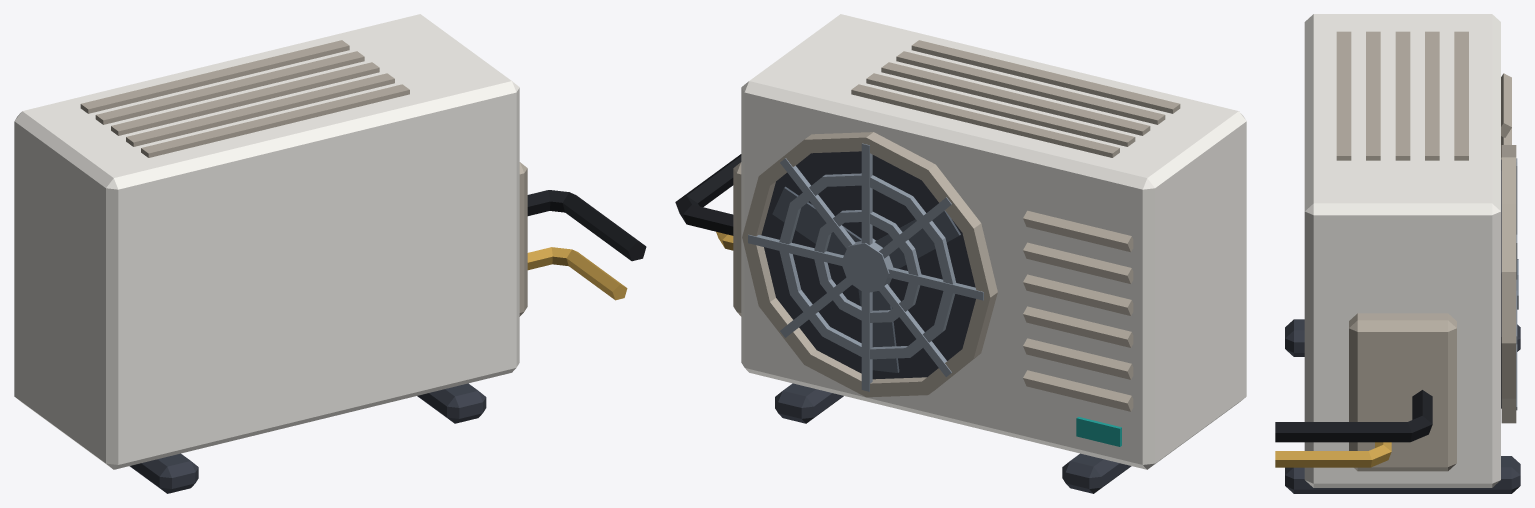
The model's file is ac_unit.glb.
3 views of the same model, side by side, from view 1: azimuth 30°, elevation 25°; view 2: azimuth 150°, elevation 25°; view 3: azimuth 270°, elevation 25° (orthographic). The views are drawn at different scales.
Parts seen in each view (by area): view 1: ac_unit; view 2: ac_unit; view 3: ac_unit.
Boxes of the visible parts, x1,y1,x2,y2 form: ac_unit: (14, 14, 646, 493); ac_unit: (675, 14, 1246, 493); ac_unit: (1275, 14, 1520, 493).
Size of the model in its own units: 1.2 by 0.71 by 0.5.
